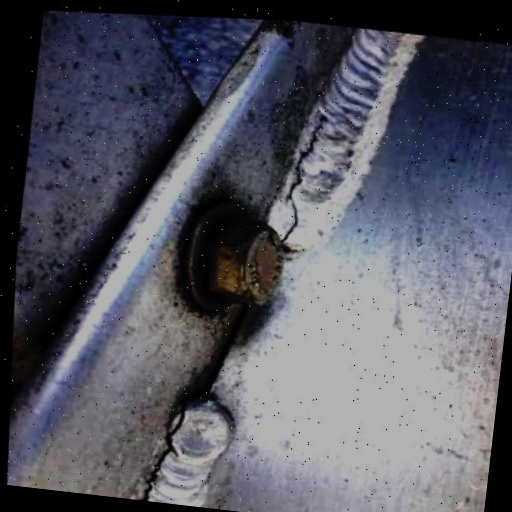crack: (260, 90, 352, 256), (112, 377, 202, 506)
